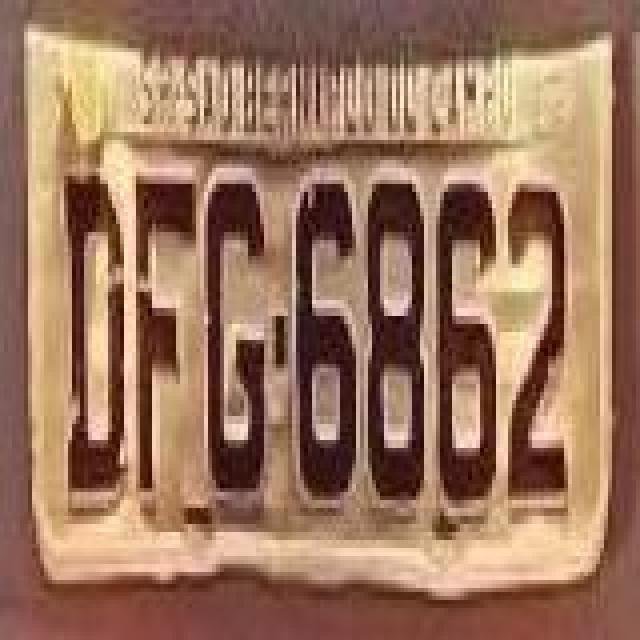2: (504, 174, 568, 506)
6: (432, 170, 496, 510), (296, 170, 360, 502)
8: (364, 174, 428, 506)
D: (64, 166, 128, 506)
F: (132, 166, 196, 498)
G: (204, 170, 268, 494)
